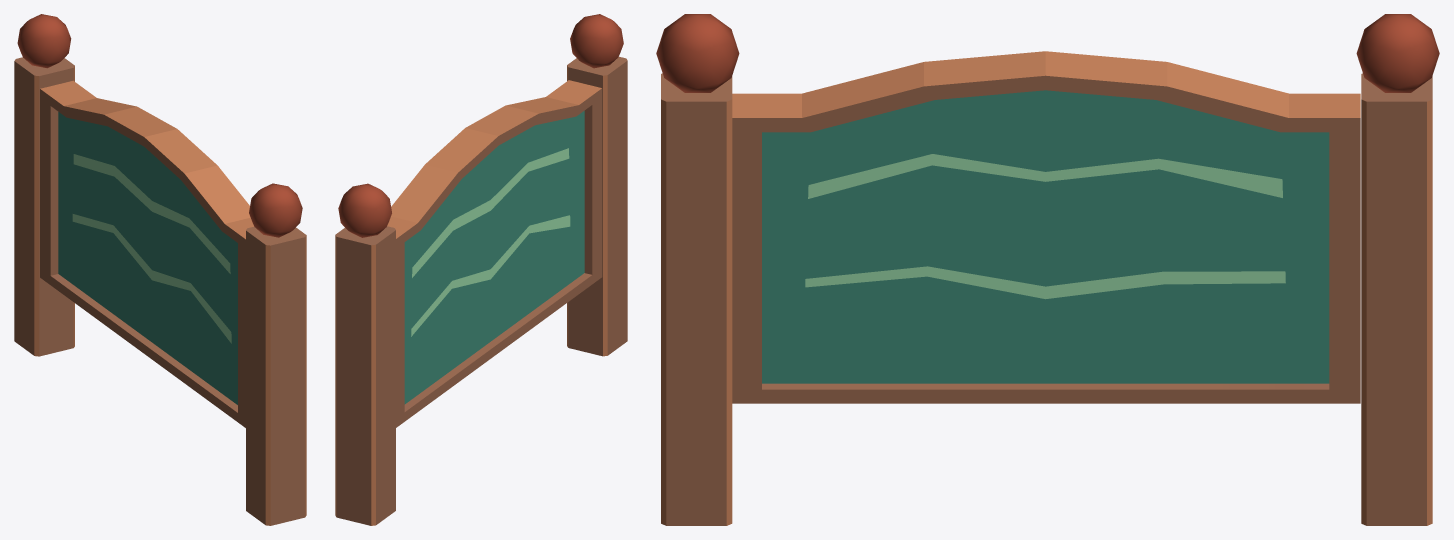
Rendered from Sign_04.glb.
3 renders of one model, left to right at view 1: azimuth 30°, elevation 25°; view 2: azimuth 150°, elevation 25°; view 3: azimuth 270°, elevation 25°, orthographic. The views are drawn at different scales.
Visible parts, largest first — view 1: Sign_04; view 2: Sign_04; view 3: Sign_04.
Part boxes in pixels (x1,y1,x2,y2): Sign_04: (14, 14, 306, 525); Sign_04: (335, 14, 627, 525); Sign_04: (656, 14, 1439, 525).
Size of what is drawn, in the model's own units: 0.1634 by 1.13 by 1.62.
Materials: 1 (1 with a texture image).
